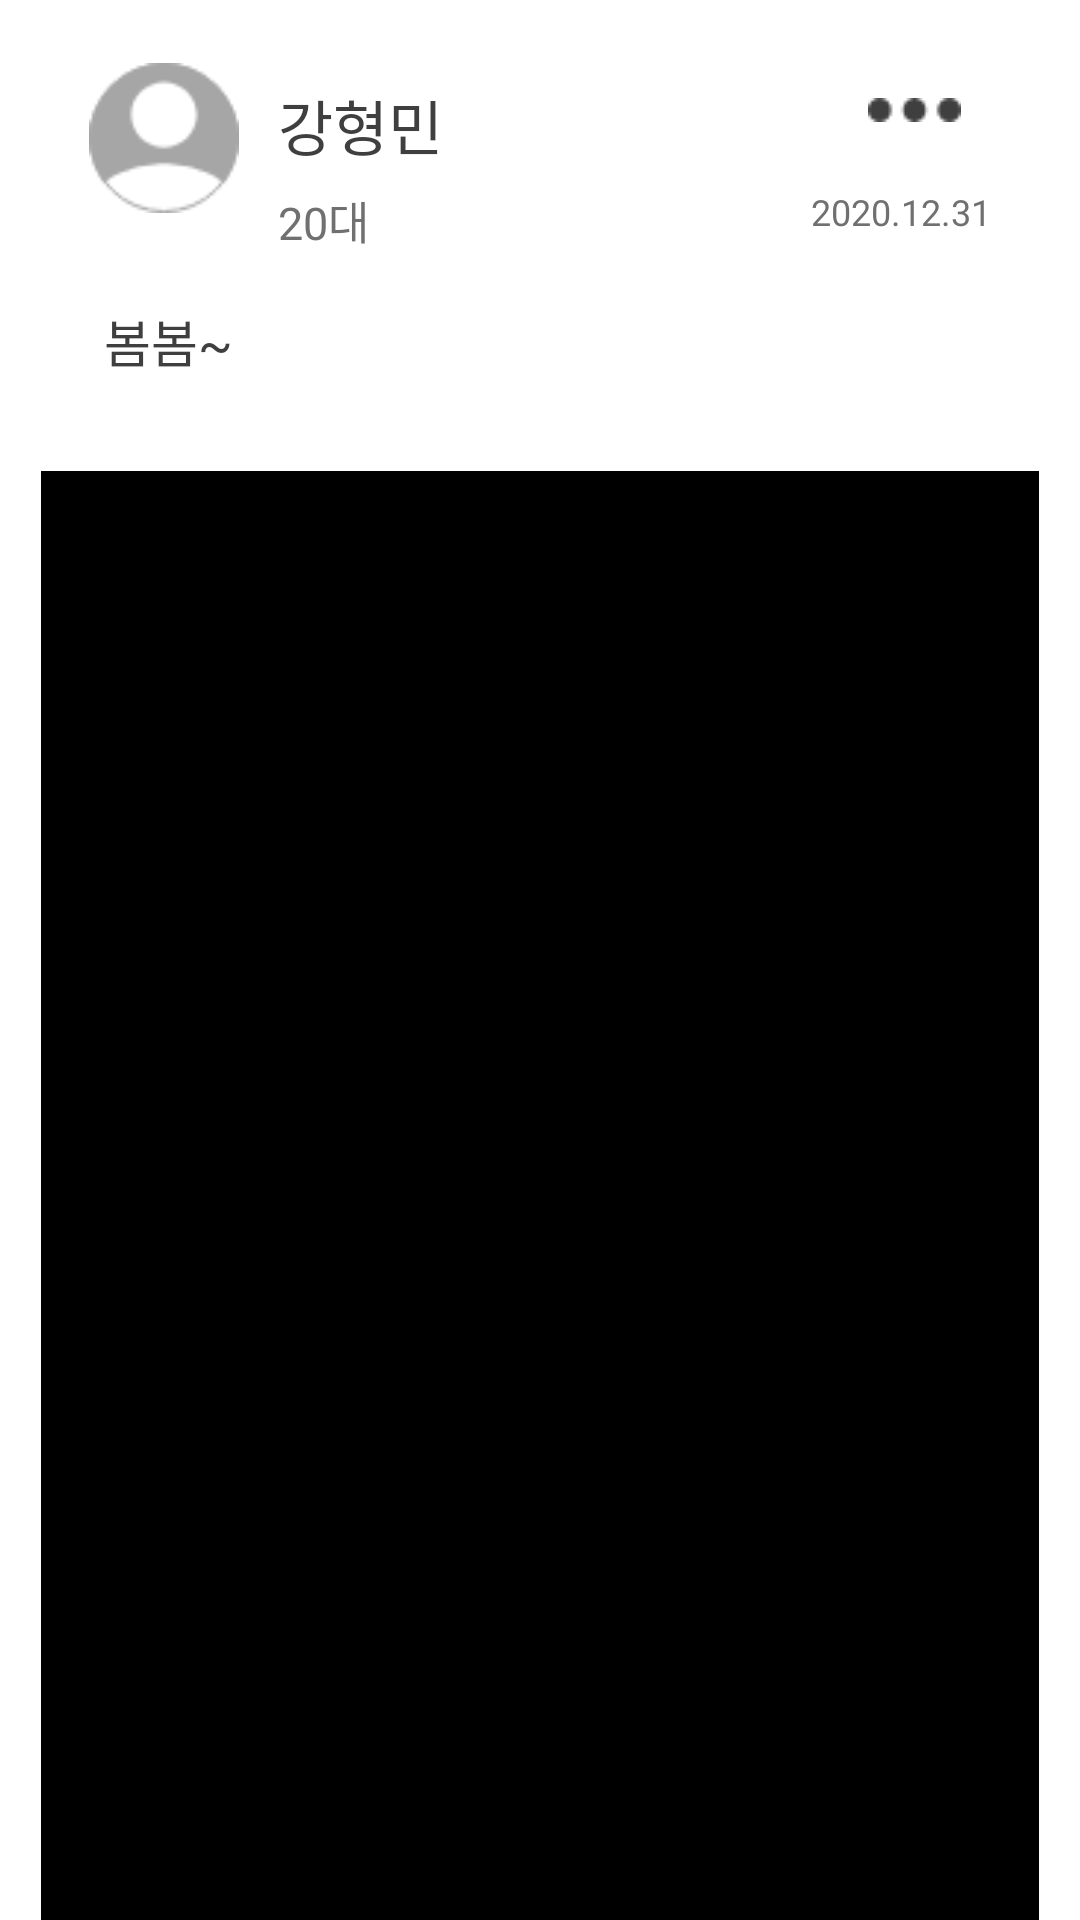

Screen size 1080 × 1920. Icon name, then its center in pixels as [x,y]:
keyword post menu: [914,110]
profile: [164,138]
